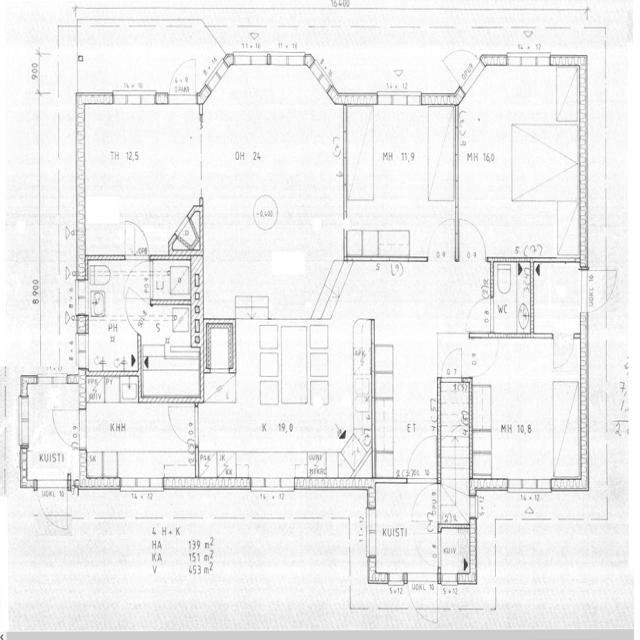door: (430, 39, 487, 96), (31, 478, 70, 534), (403, 571, 443, 625), (409, 479, 444, 535), (407, 434, 442, 488), (168, 53, 202, 107), (456, 213, 490, 267), (410, 522, 445, 573), (165, 403, 203, 449), (49, 405, 86, 450), (586, 264, 618, 312), (426, 218, 456, 268), (548, 325, 579, 373), (120, 217, 152, 260), (123, 259, 154, 303), (122, 286, 151, 333), (464, 294, 491, 338), (439, 345, 465, 380)
window: (187, 48, 241, 110), (230, 43, 308, 72), (299, 49, 339, 99), (115, 469, 167, 496), (377, 83, 427, 110), (244, 473, 301, 496), (504, 474, 554, 499), (503, 50, 554, 74), (70, 267, 90, 328), (109, 86, 156, 110), (364, 505, 379, 558), (16, 397, 30, 450), (34, 374, 71, 388), (468, 492, 482, 525), (385, 571, 407, 589), (443, 571, 462, 589)
